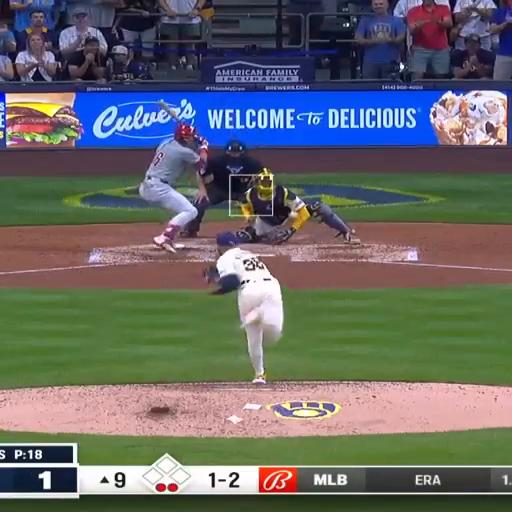bat: (157, 100, 179, 122)
